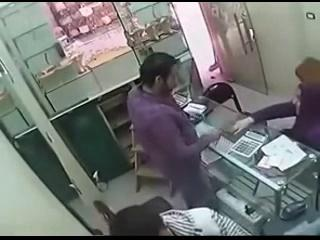Normal: (126, 52, 222, 209), (232, 58, 320, 150), (92, 196, 173, 236), (202, 82, 244, 113), (280, 200, 306, 220)
